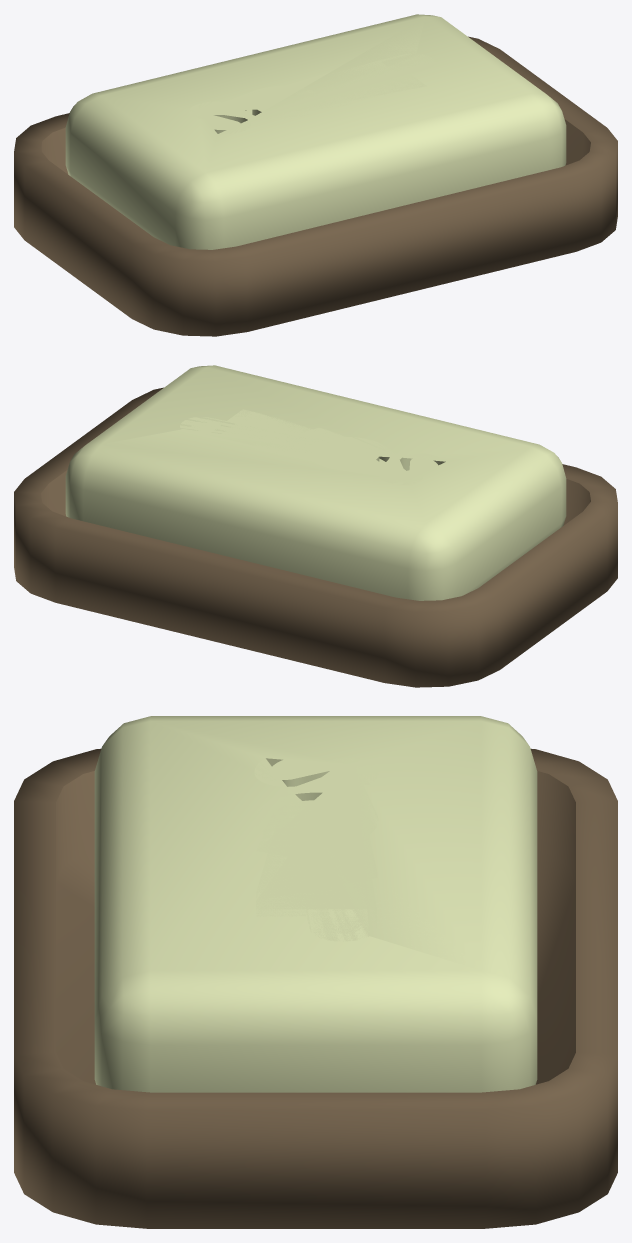
Rendered from soap.fbx.
The picture shows the model from 3 angles, top to bottom: view 1: azimuth 30°, elevation 25°; view 2: azimuth 150°, elevation 25°; view 3: azimuth 270°, elevation 25°; orthographic projection. The views are drawn at different scales.
Parts seen in each view (by area): view 1: Cube, Cube.001; view 2: Cube, Cube.001; view 3: Cube, Cube.001.
Part boxes in pixels (box(x1,y1,x2,y2)): Cube: box(65, 14, 566, 249); Cube.001: box(14, 36, 617, 336); Cube: box(65, 365, 566, 600); Cube.001: box(14, 387, 617, 687); Cube: box(94, 716, 537, 1092); Cube.001: box(14, 748, 617, 1228).
Bounding box in the file's own units: 0.0976 × 0.0249 × 0.0682.
